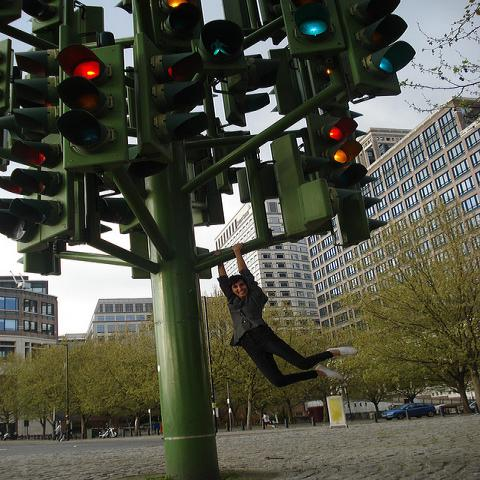car: (383, 402, 436, 421), (457, 401, 476, 413), (434, 404, 447, 410)
